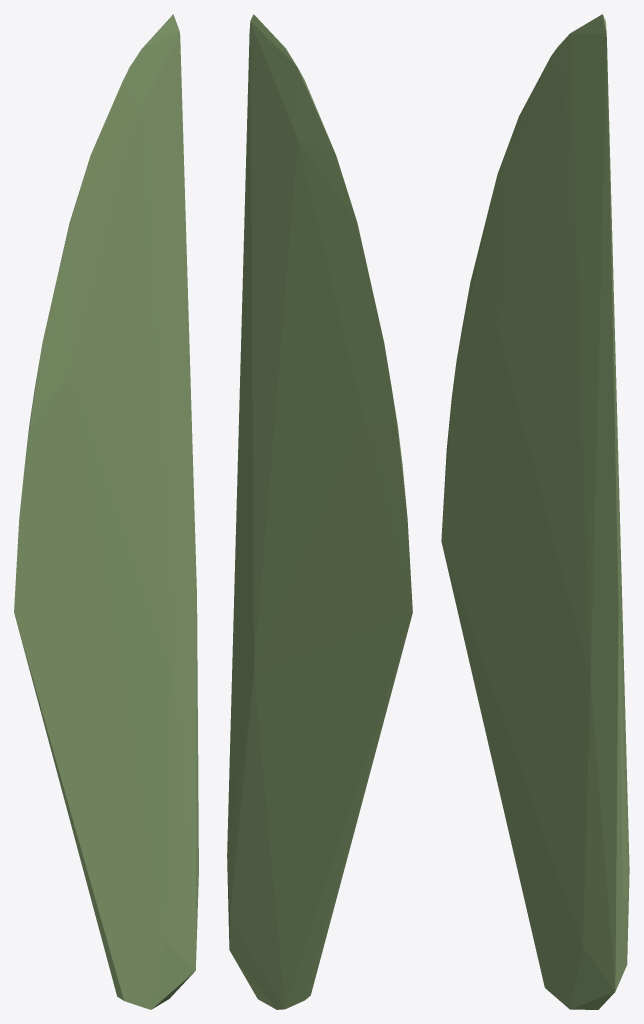
File: kitchenware_knife_o01.glb
The picture shows the model from 3 angles, left to right: view 1: azimuth 30°, elevation 25°; view 2: azimuth 150°, elevation 25°; view 3: azimuth 330°, elevation 25°; orthographic projection.
Parts seen in each view (by area): view 1: geometry_0; view 2: geometry_0; view 3: geometry_0.
Part boxes in pixels (x1,y1,x2,y2): geometry_0: (14, 14, 198, 1009); geometry_0: (227, 14, 412, 1009); geometry_0: (441, 14, 629, 1009).
Size of the model in its own units: 0.0928 by 0.4797 by 0.0103.
